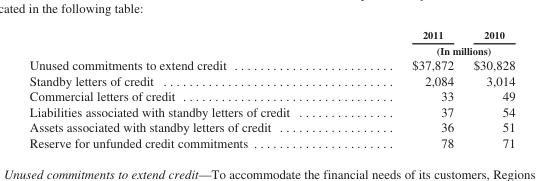table: (28, 28, 514, 149)
table column: (28, 28, 350, 149), (350, 28, 462, 149), (462, 28, 514, 149)
table column header: (28, 28, 514, 56)
table row: (28, 56, 514, 72), (28, 72, 514, 88), (28, 103, 514, 119), (28, 88, 514, 103), (28, 119, 514, 134), (28, 134, 514, 149), (28, 28, 514, 42), (28, 42, 514, 56)
table spanning cell: (350, 42, 514, 56)
